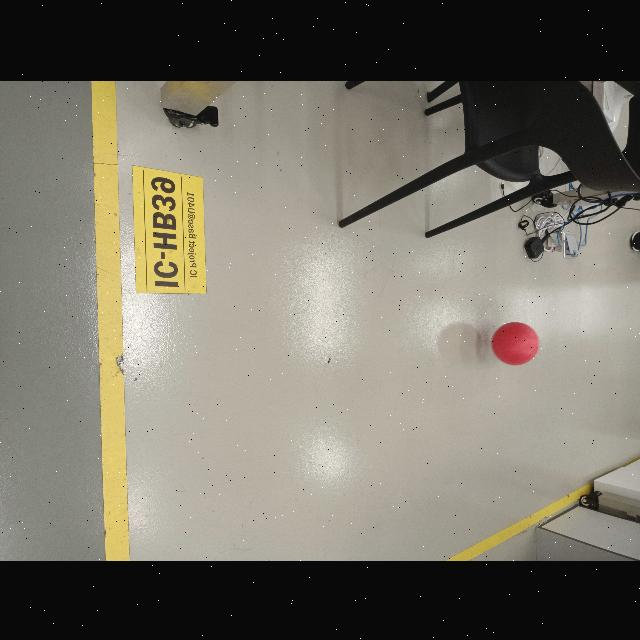R: (492, 323, 540, 365)
